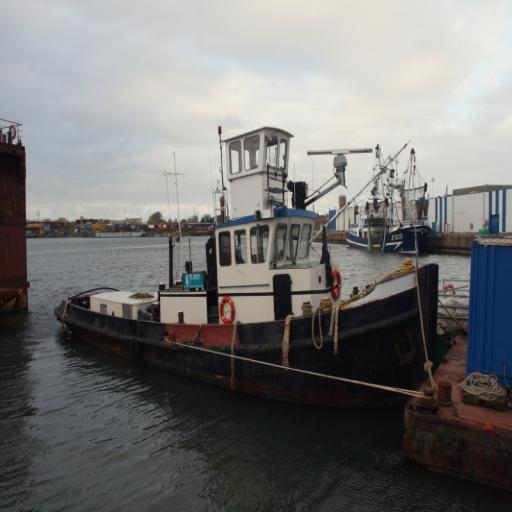tugboat: (58, 121, 448, 435)
